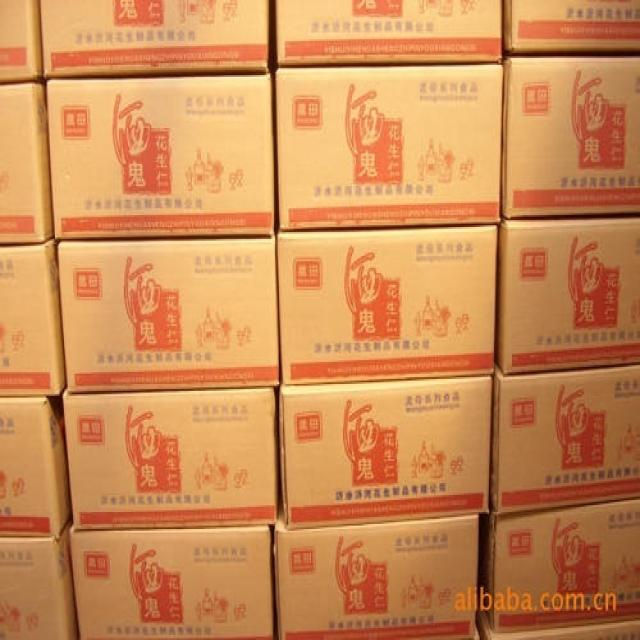box: (42, 68, 276, 242), (274, 61, 504, 232), (55, 232, 280, 393), (278, 224, 498, 386), (278, 375, 494, 527), (59, 386, 280, 531), (273, 512, 483, 638), (70, 524, 275, 638), (495, 215, 640, 375), (502, 53, 640, 220), (492, 362, 640, 514), (481, 497, 640, 631), (40, 0, 274, 79), (273, 0, 504, 67), (0, 237, 67, 398), (0, 396, 70, 539), (0, 515, 78, 640), (0, 79, 54, 242), (504, 0, 639, 56), (481, 601, 640, 640)
